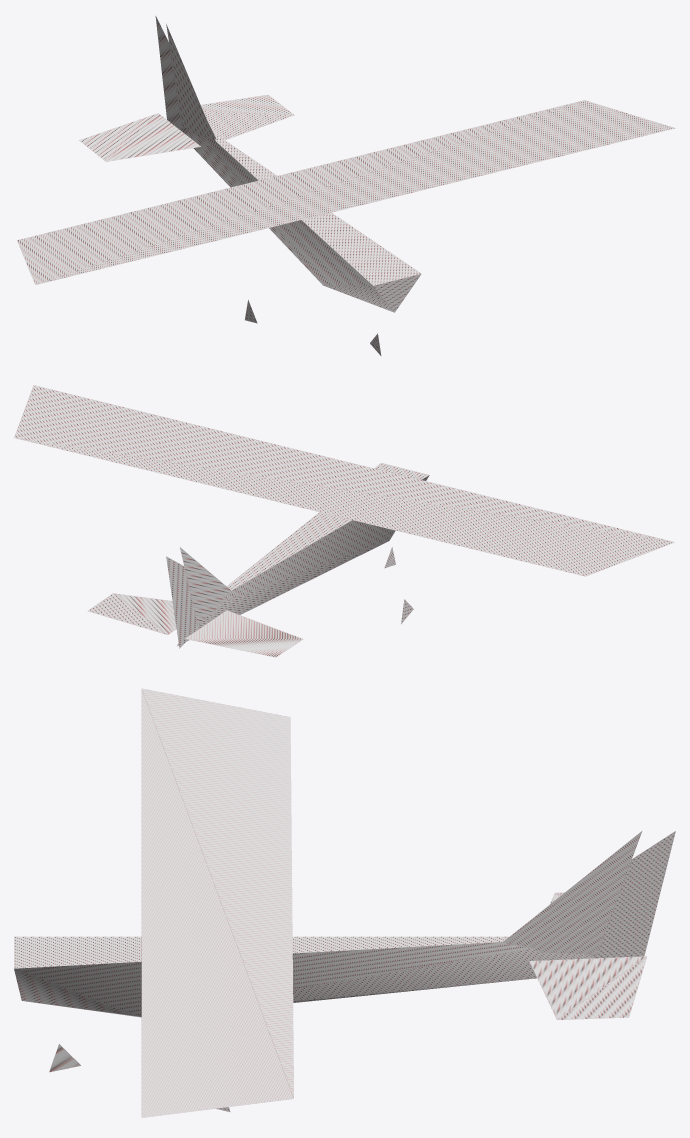
3 renders of one model, top to bottom at view 1: azimuth 30°, elevation 25°; view 2: azimuth 150°, elevation 25°; view 3: azimuth 270°, elevation 25°, orthographic. The views are drawn at different scales.
Parts seen in each view (by area): view 1: fuselage; view 2: fuselage; view 3: fuselage.
Boxes of the visible parts, x1=… form: fuselage: x1=17, y1=16, x2=675, y2=355; fuselage: x1=14, y1=385, x2=674, y2=657; fuselage: x1=14, y1=688, x2=675, y2=1117.
Size of the model in its own units: 10.32 by 2.7 by 6.69.
